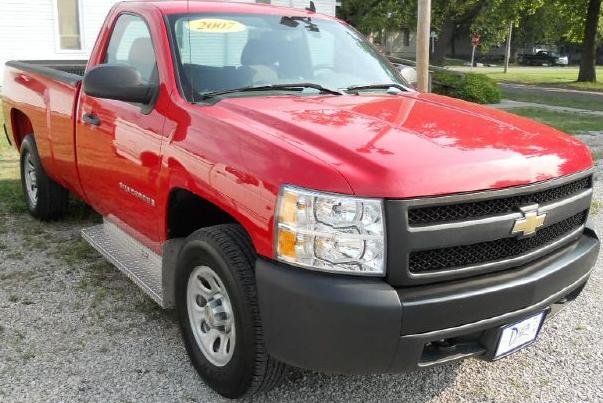front_view: (268, 157, 600, 351)
headlight: (275, 177, 394, 278)
side_glass: (74, 13, 166, 120)
